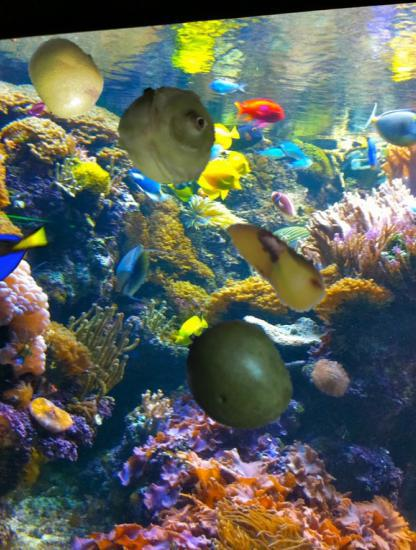Banana: (220, 201, 340, 321)
Kohlrabi: (116, 84, 222, 190)
Mango: (177, 315, 298, 436)
Pomelo: (23, 35, 108, 120)
